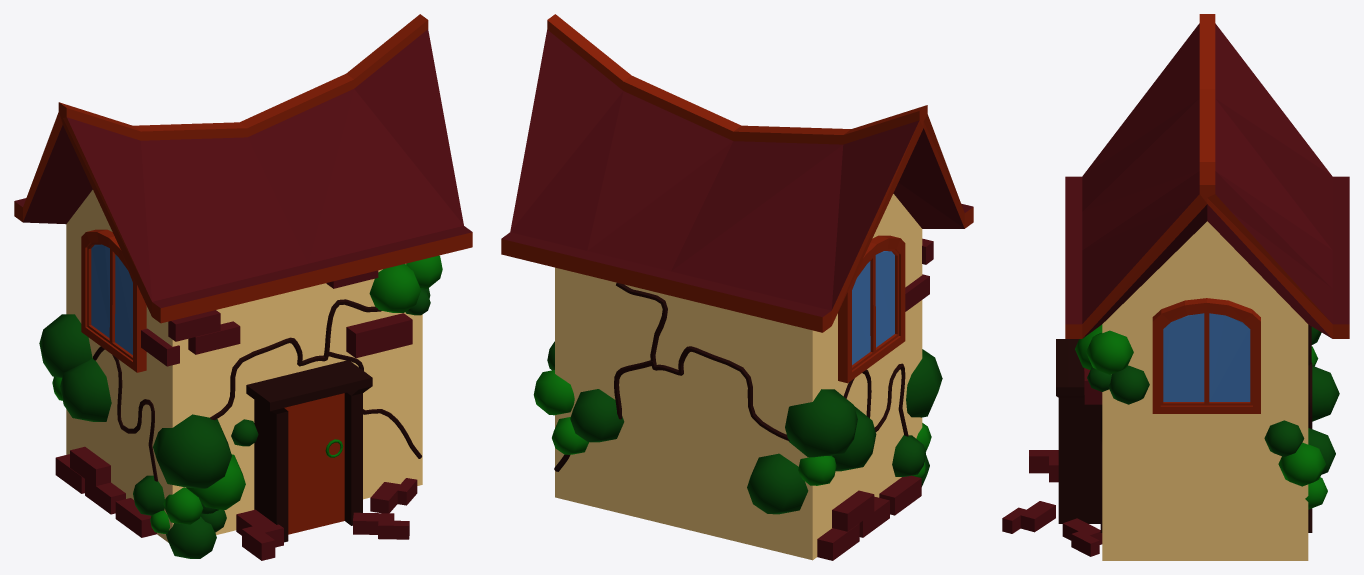
The model's file is Building_DesertedHouse_2.FBX.
3 views of the same model, side by side, from view 1: azimuth 30°, elevation 25°; view 2: azimuth 150°, elevation 25°; view 3: azimuth 270°, elevation 25° (orthographic). The views are drawn at different scales.
Parts seen in each view (by area): view 1: Box001; view 2: Box001; view 3: Box001.
Boxes of the visible parts, <box> form: Box001: <box>14,14,472,560</box>; Box001: <box>501,14,973,560</box>; Box001: <box>1002,14,1349,560</box>.
Size of the model in its own units: 651 by 558 by 744.
